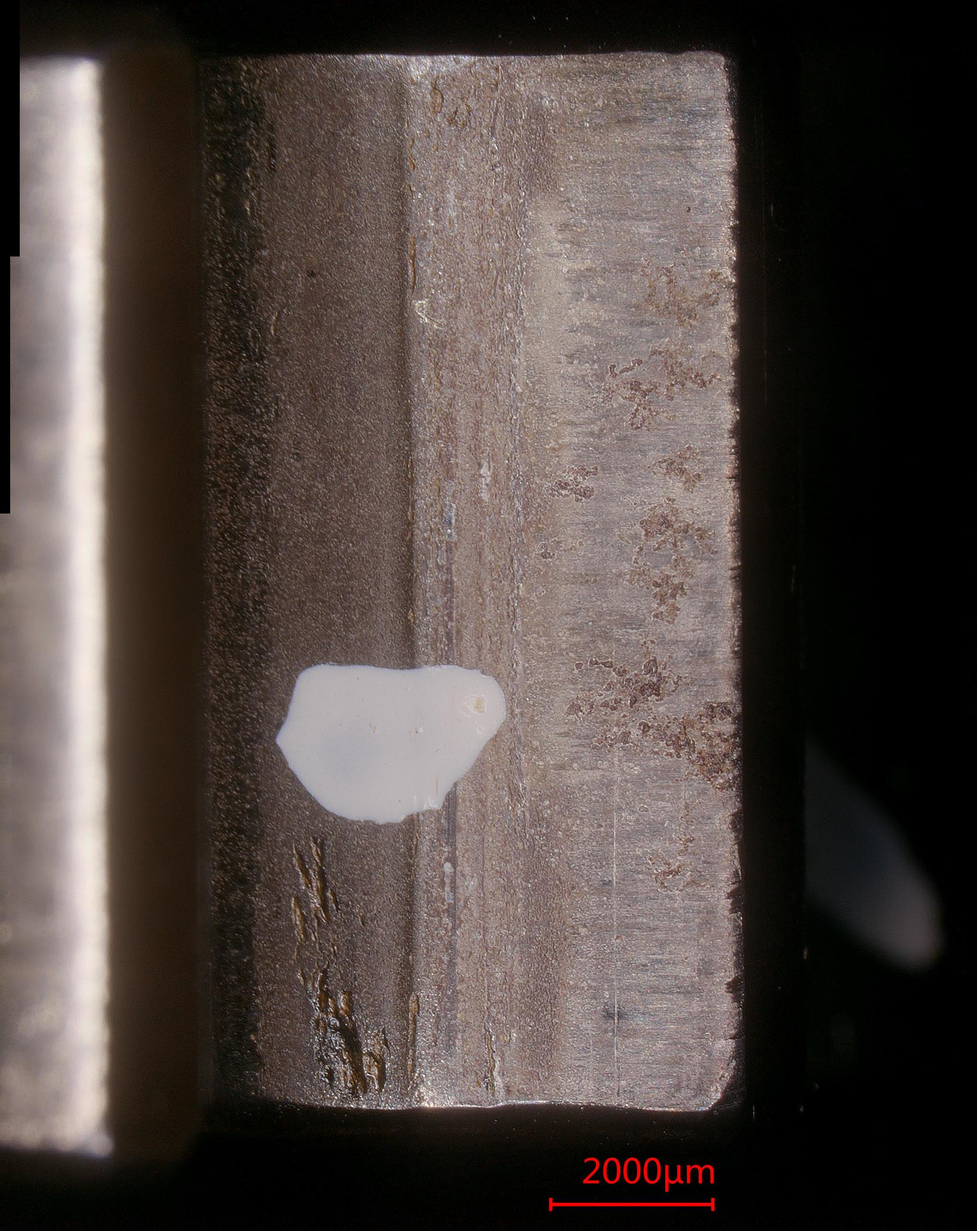Abrasion: (214, 53, 740, 1108)
